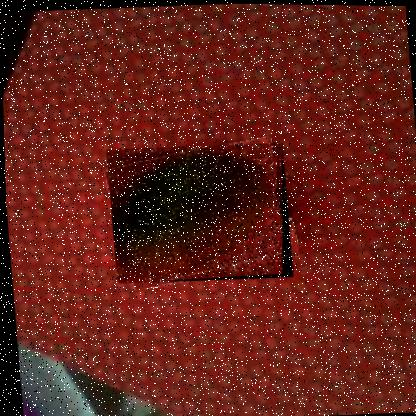mango: (105, 138, 296, 284)
